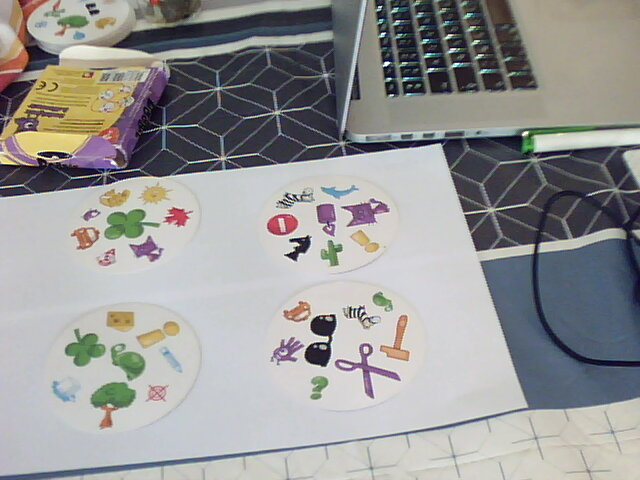arbre: (87, 382, 139, 431)
bougie: (314, 202, 339, 237)
cactus: (317, 239, 347, 270)
chat: (339, 196, 391, 227), (127, 236, 165, 265)
cheval: (283, 233, 312, 262)
chien: (96, 189, 134, 207)
cible: (145, 381, 170, 404)
ciseau: (334, 341, 403, 400)
clown: (99, 248, 118, 272)
crayon: (157, 344, 187, 376)
dauphin: (317, 180, 359, 202)
dooble: (269, 335, 304, 365)
feuille: (166, 207, 197, 235)
fromage: (103, 310, 139, 332)
glacon: (50, 372, 83, 403)
lunette: (303, 308, 338, 369)
marteau: (379, 314, 411, 362)
oiseau: (79, 207, 103, 223)
point_exclamation: (138, 319, 174, 350), (346, 226, 382, 255)
point_interrogation: (304, 372, 329, 403)
sens_interdit: (266, 210, 301, 238)
soleil: (140, 182, 170, 211)
tortue: (106, 342, 150, 385)
trefle: (105, 210, 160, 238), (66, 330, 104, 369)
voiture: (66, 224, 99, 253), (280, 298, 314, 324)
zebre: (271, 185, 317, 211), (338, 303, 380, 331)
